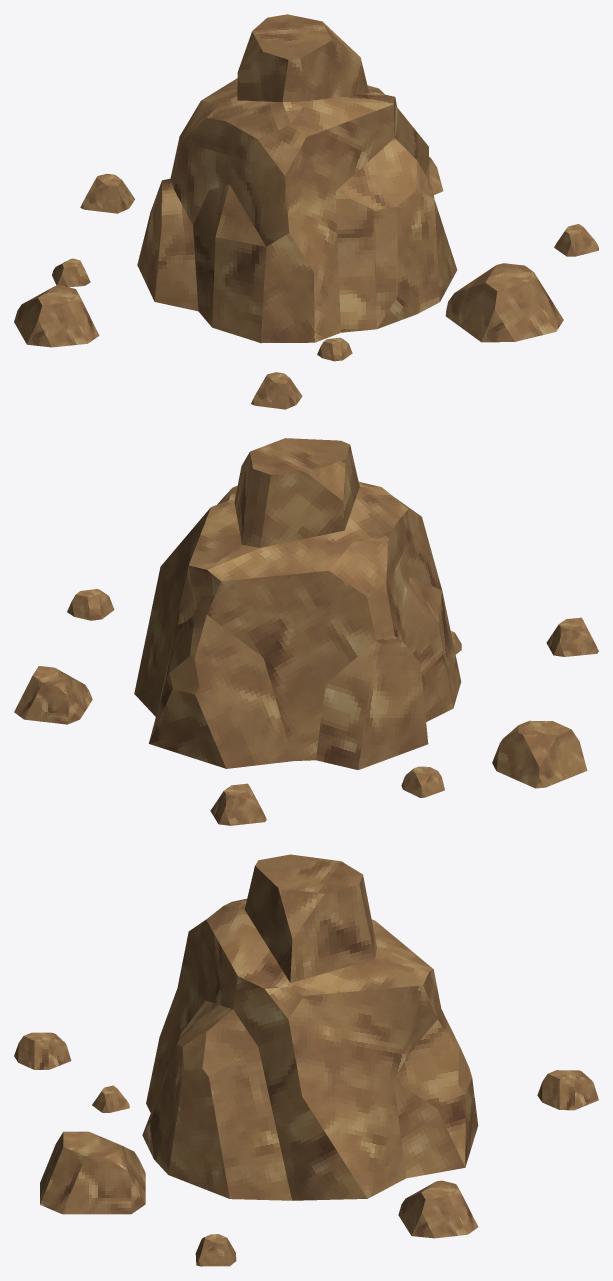
File: Rock.fbx
3 renders of one model, top to bottom at view 1: azimuth 30°, elevation 25°; view 2: azimuth 150°, elevation 25°; view 3: azimuth 270°, elevation 25°, orthographic. The views are drawn at different scales.
Visible parts, largest first — view 1: rock; view 2: rock; view 3: rock.
Part boxes in pixels (x1,y1,x2,y2): rock: [14, 14, 598, 409]; rock: [14, 438, 598, 825]; rock: [14, 854, 598, 1266].
Bounding box in the file's own units: 2.27 × 0.9799 × 2.02.
